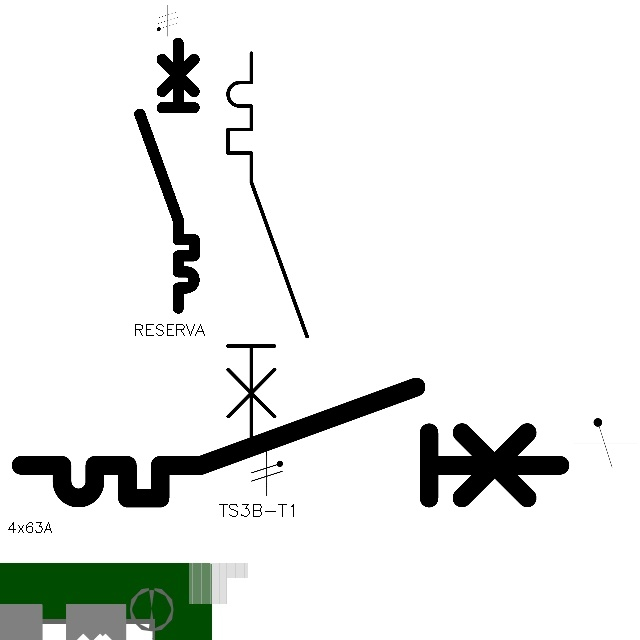interruptor_termomagnetico: (7, 373, 574, 512), (218, 43, 317, 450), (133, 36, 201, 314)
